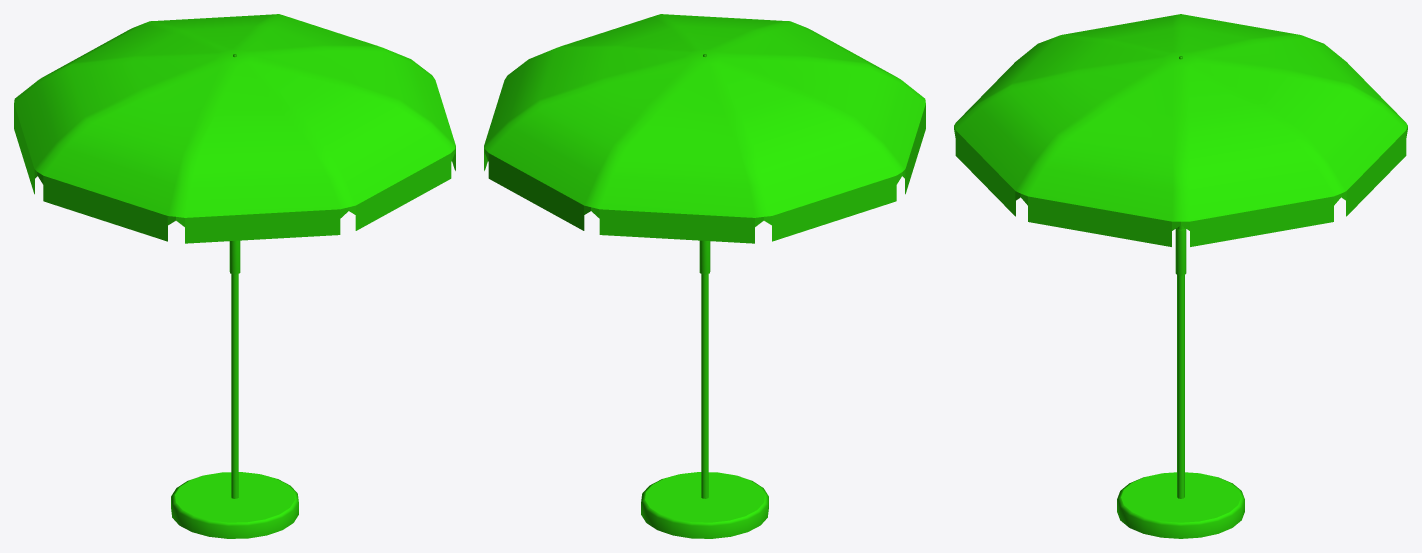
File: Beach_Umbrella_01_Lod0.fbx
3 renders of one model, left to right at view 1: azimuth 30°, elevation 25°; view 2: azimuth 150°, elevation 25°; view 3: azimuth 270°, elevation 25°, orthographic.
Parts seen in each view (by area): view 1: Beach_Umbrella_01_Lod0; view 2: Beach_Umbrella_01_Lod0; view 3: Beach_Umbrella_01_Lod0.
Part boxes in pixels (box(x1,y1,x2,y2)): Beach_Umbrella_01_Lod0: box(14, 14, 455, 538); Beach_Umbrella_01_Lod0: box(484, 14, 925, 538); Beach_Umbrella_01_Lod0: box(954, 14, 1407, 538).
Bounding box in the file's own units: 243 × 270 × 243.
